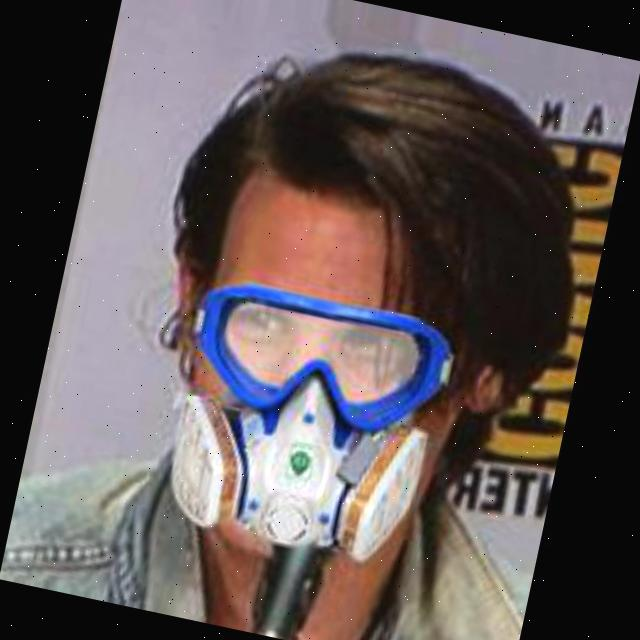suspicion: (142, 52, 516, 602)
